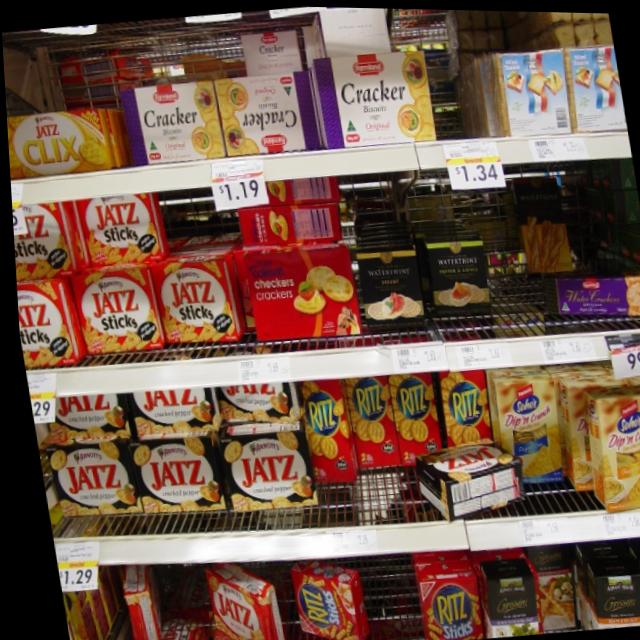q109: (213, 417, 314, 526), (122, 429, 221, 526), (39, 442, 133, 530)
